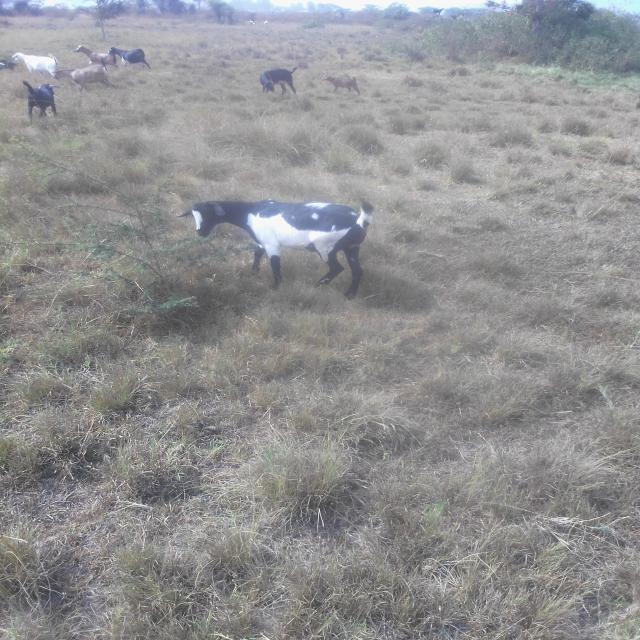goat: (135, 152, 459, 320)
